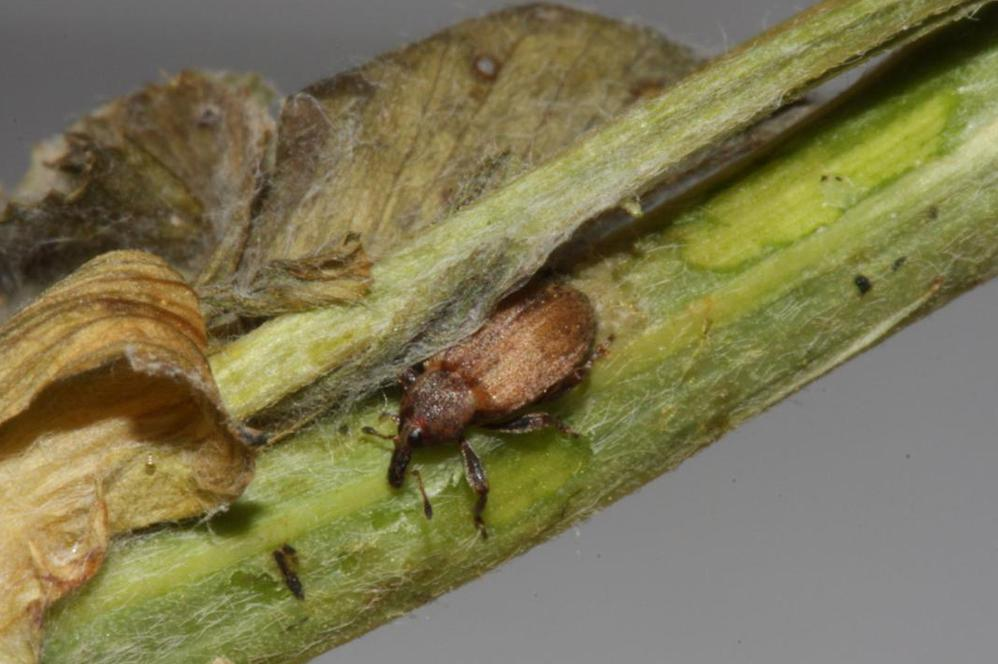weevils: (345, 251, 632, 565)
